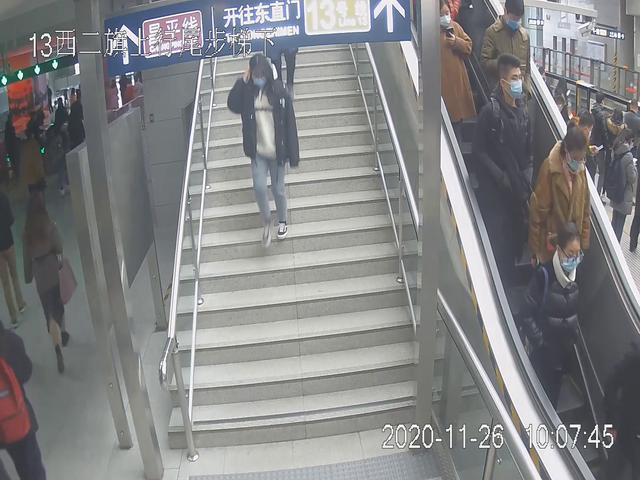person: (471, 51, 543, 289), (223, 49, 301, 250), (515, 217, 588, 425), (523, 122, 594, 308), (18, 188, 79, 376)
